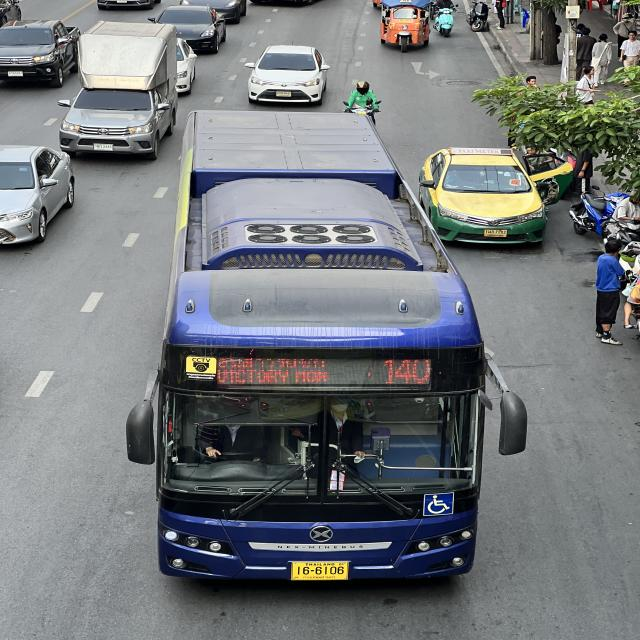Bus-Line-Number: (376, 355, 439, 387)
Destination-Sign-Normal: (215, 354, 334, 388)
TSB-Bus: (128, 110, 492, 586)
